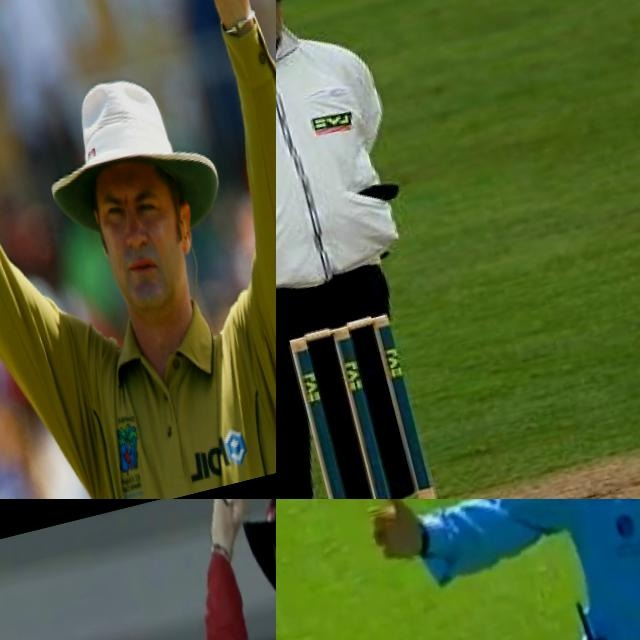No_Action: (276, 0, 511, 499)
No_Ball: (308, 499, 640, 640)
Six: (0, 0, 276, 499), (95, 499, 276, 640)
